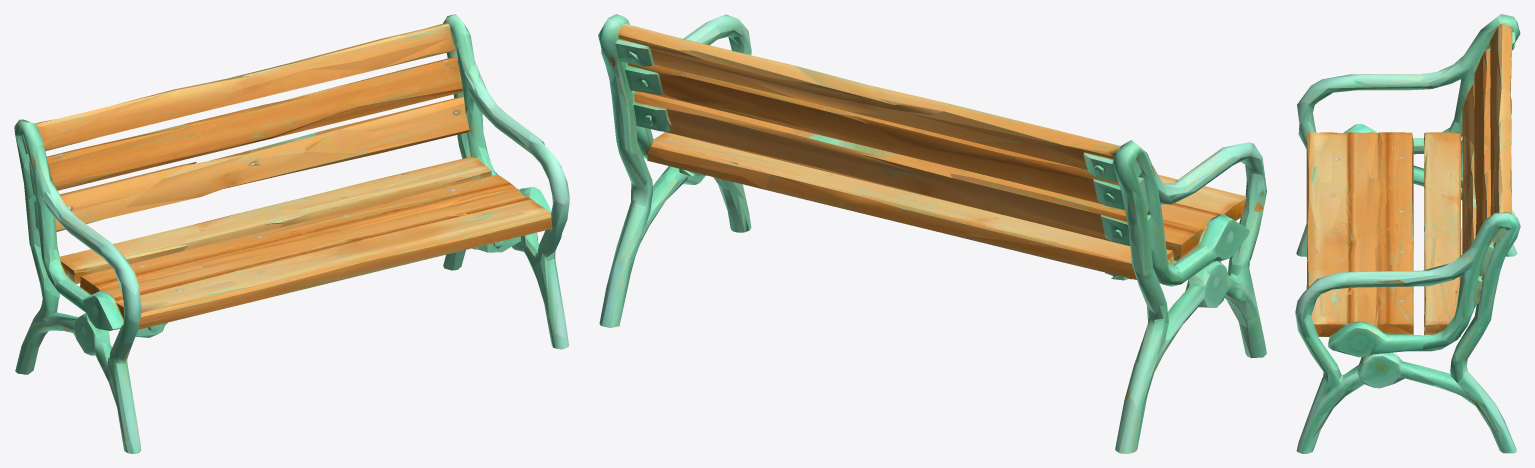
File: park_bench.glb
3 renders of one model, left to right at view 1: azimuth 30°, elevation 25°; view 2: azimuth 150°, elevation 25°; view 3: azimuth 270°, elevation 25°, orthographic. The views are drawn at different scales.
Size of the model in its own units: 1.7 by 0.9246 by 0.793.
1 material, 1 textured.
